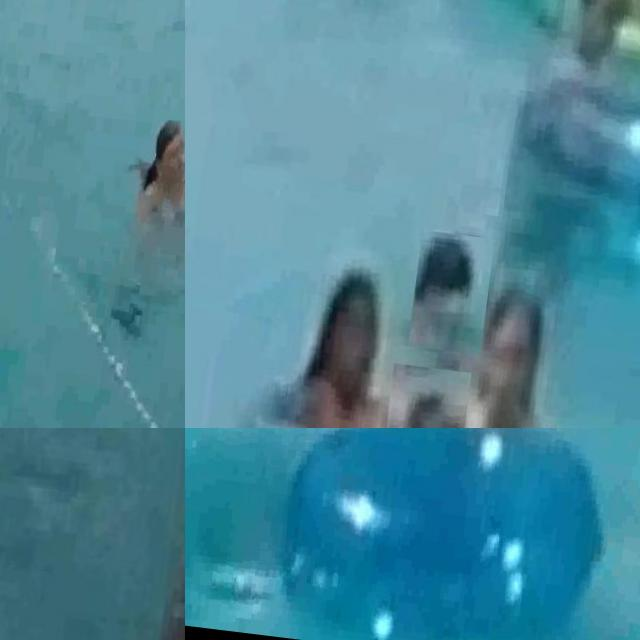drowning: (75, 61, 185, 341), (406, 230, 494, 356), (135, 428, 185, 640)
swimming: (269, 246, 398, 428), (470, 279, 562, 428), (558, 0, 640, 88), (381, 362, 471, 428)
